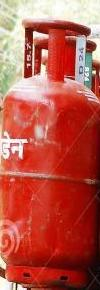cylinder: (1, 1, 100, 290)
